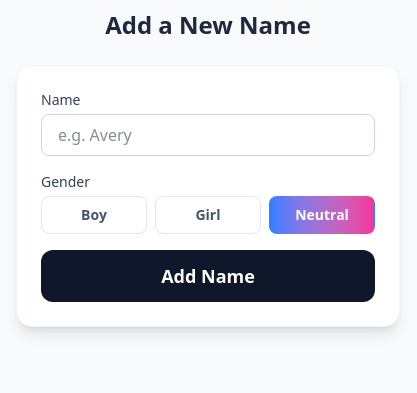
Test: Submit › submits name
This screenshot has width=417, height=393.
In the field with placeholder "e.g. Avery": (208, 135) [41, 114, 375, 156], type "Zoe"
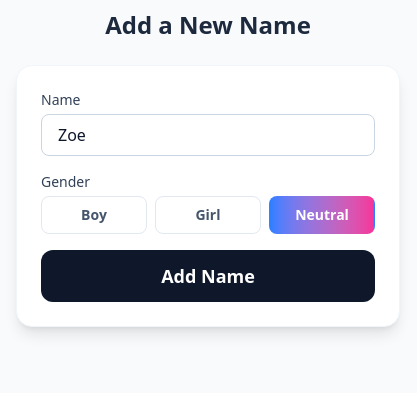
Note: Select 'girl'
Click the button "girl": (208, 215) [155, 196, 261, 234]
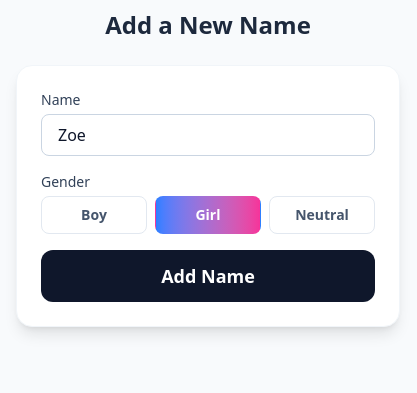
Click the button "Add Name": (208, 276) [41, 250, 375, 302]
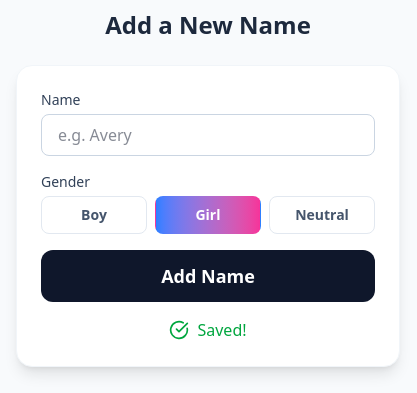
Check: the text "Saved!" is shown, box [170, 319, 247, 341]
